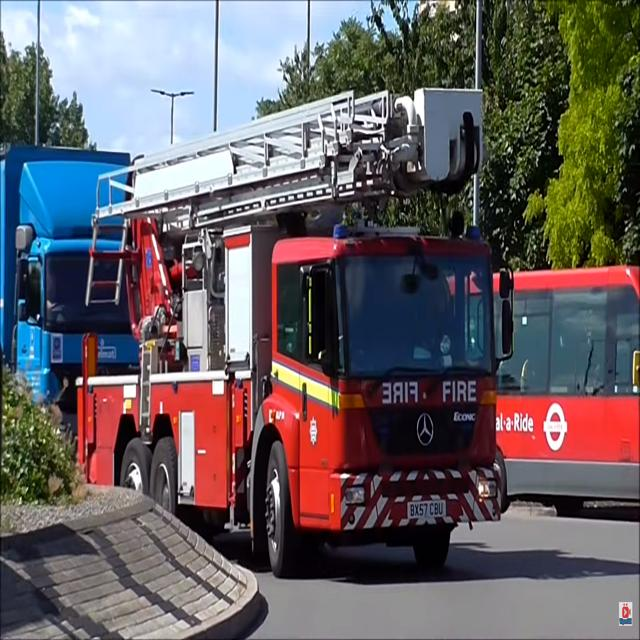emergency-vehicles: (44, 80, 532, 580)
